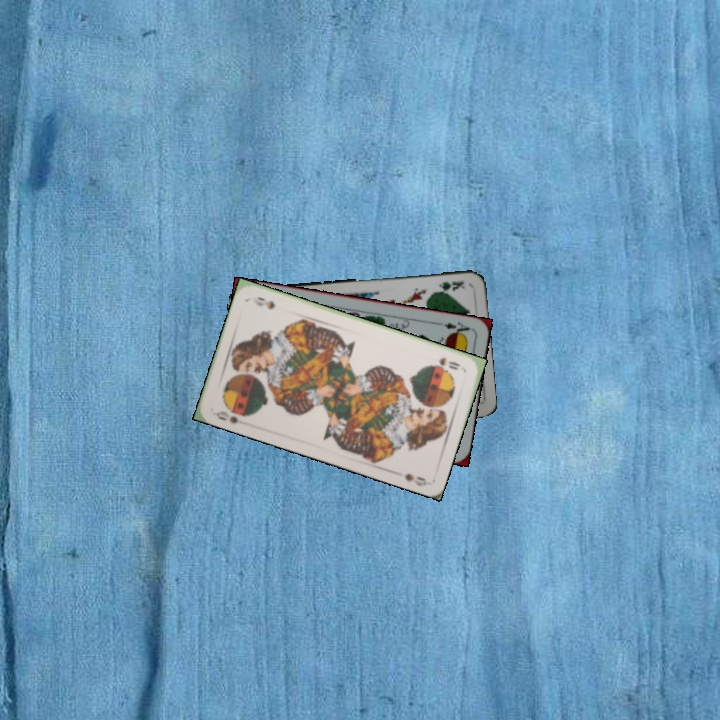EA: (434, 317, 474, 338)
GK: (430, 276, 467, 295)
SO: (212, 407, 241, 426), (435, 353, 463, 372)
